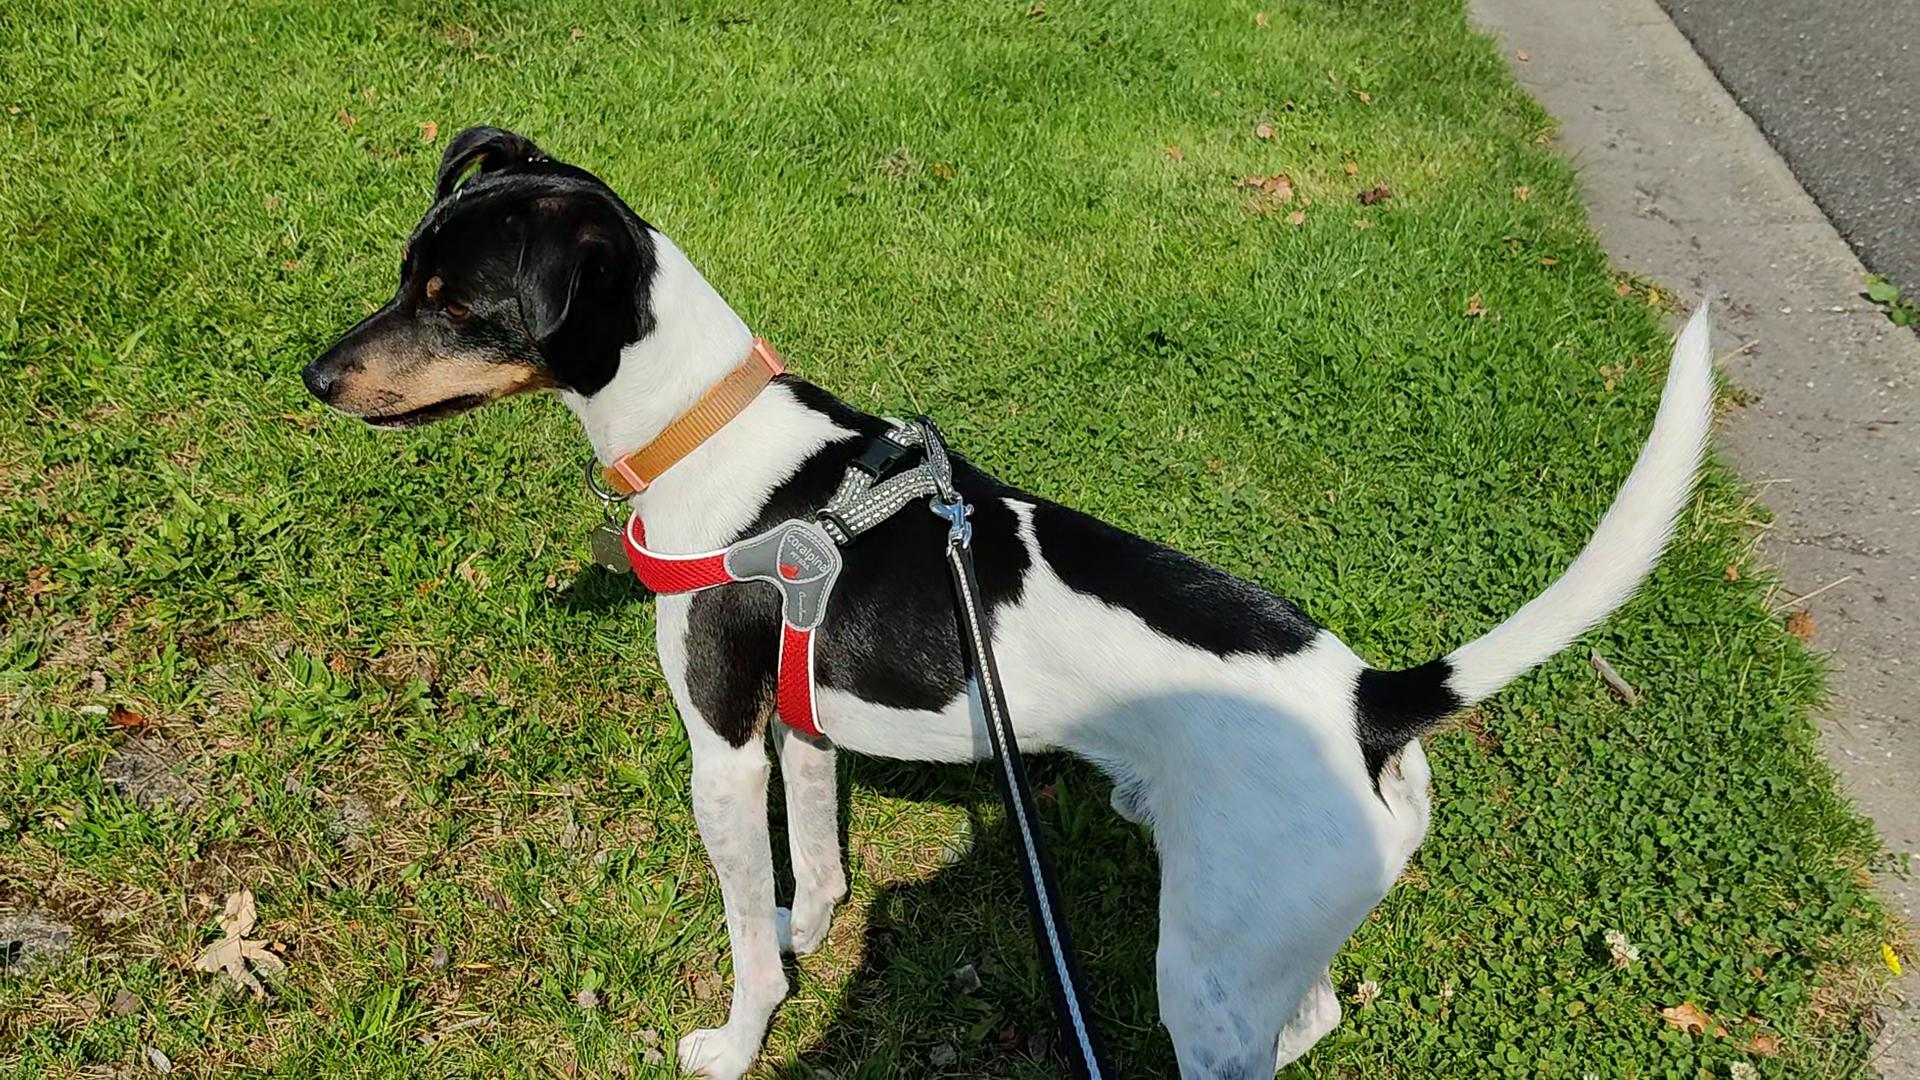Dog: (295, 120, 1721, 1079)
